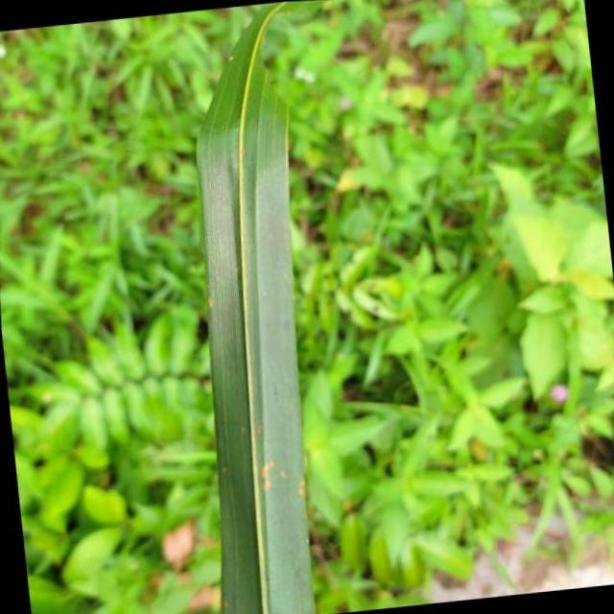Boron: (189, 0, 315, 614)
